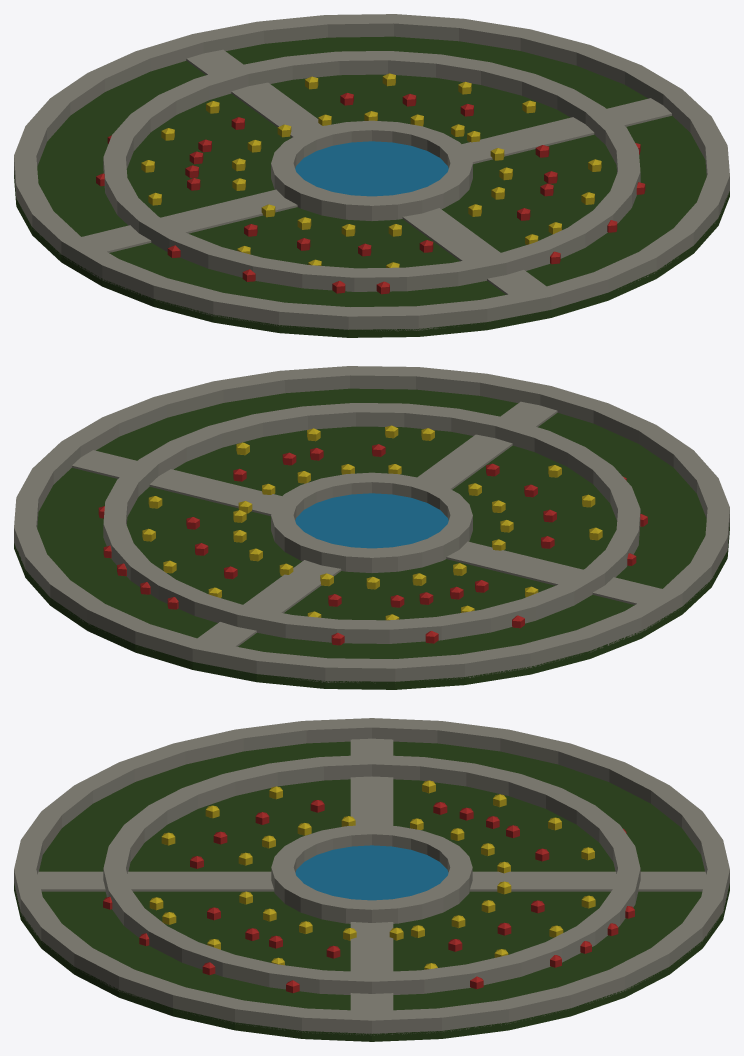
Rendered from formal-garden-round.glb.
3 renders of one model, top to bottom at view 1: azimuth 30°, elevation 25°; view 2: azimuth 150°, elevation 25°; view 3: azimuth 270°, elevation 25°, orthographic.
Visible parts, largest first — view 1: formal-garden-round; view 2: formal-garden-round; view 3: formal-garden-round.
Boxes of the visible parts, x1,y1,x2,y2 form: formal-garden-round: (14, 14, 729, 337); formal-garden-round: (14, 366, 729, 689); formal-garden-round: (14, 718, 729, 1041).
Bounding box in the file's own units: 64 × 2.3 × 64.
